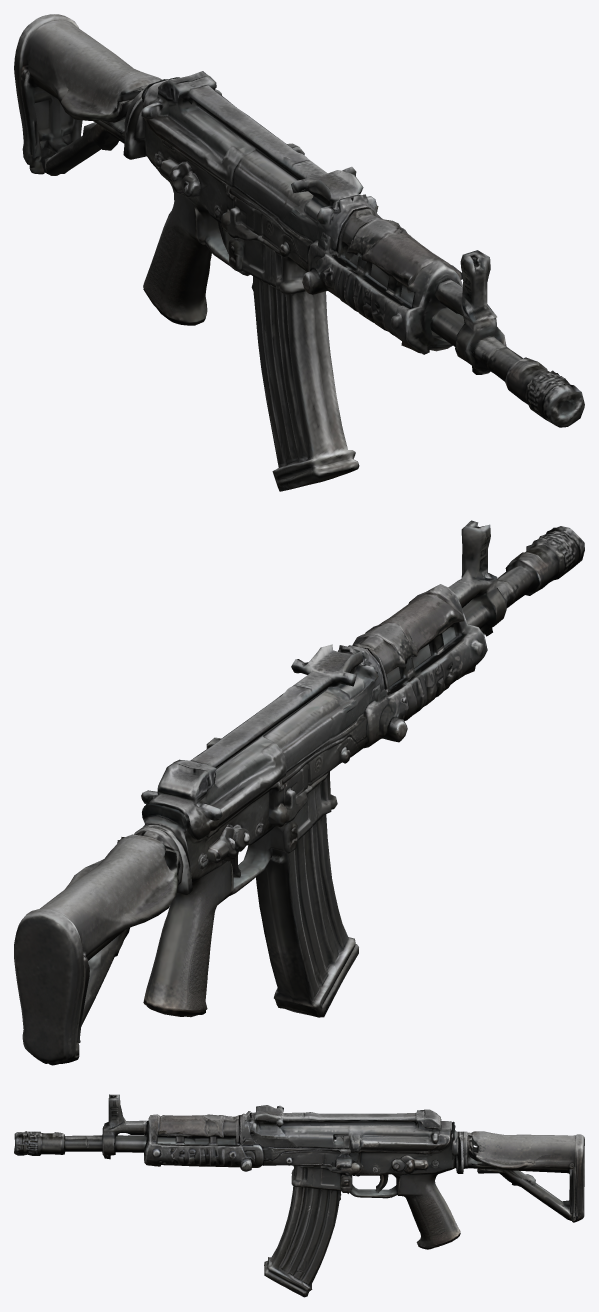
Rendered from w_val.glb.
3 views of the same model, one above another, from view 1: azimuth 30°, elevation 25°; view 2: azimuth 150°, elevation 25°; view 3: azimuth 270°, elevation 25° (orthographic). The views are drawn at different scales.
Visible parts, largest first — view 1: tripo_node_187c24a3-22f1-4610-b79e-b7847169b7ca; view 2: tripo_node_187c24a3-22f1-4610-b79e-b7847169b7ca; view 3: tripo_node_187c24a3-22f1-4610-b79e-b7847169b7ca.
Boxes of the visible parts, x1=… form: tripo_node_187c24a3-22f1-4610-b79e-b7847169b7ca: x1=14, y1=14, x2=584, y2=491; tripo_node_187c24a3-22f1-4610-b79e-b7847169b7ca: x1=14, y1=520, x2=584, y2=1065; tripo_node_187c24a3-22f1-4610-b79e-b7847169b7ca: x1=14, y1=1094, x2=584, y2=1297.
Size of the model in its own units: 0.1104 by 0.3713 by 0.9806.
1 material, 1 textured.
